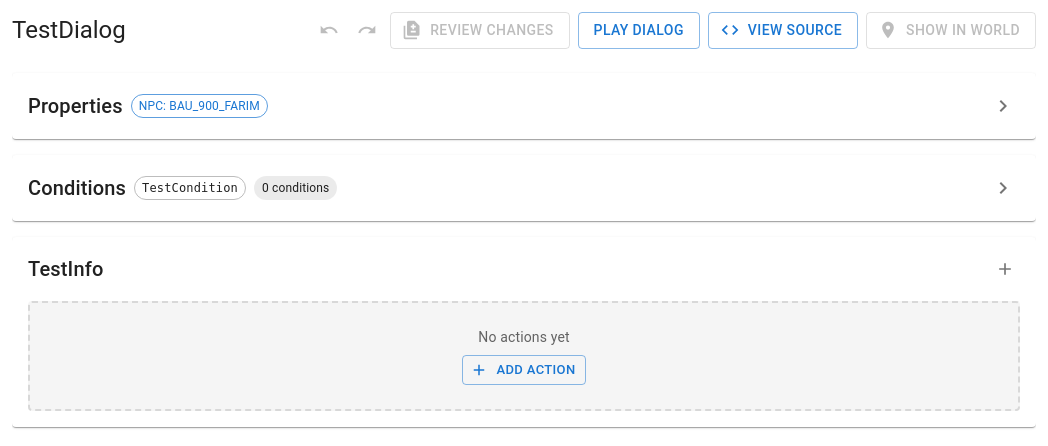
Scenario: the NPC/Dialog view jumps to the world › stays disabled when the point is missing from the very world it names
The width and height of the screenshot is (1048, 446).
Hover over the element showing "Show in World" at (951, 30), box [866,12,1036,48]
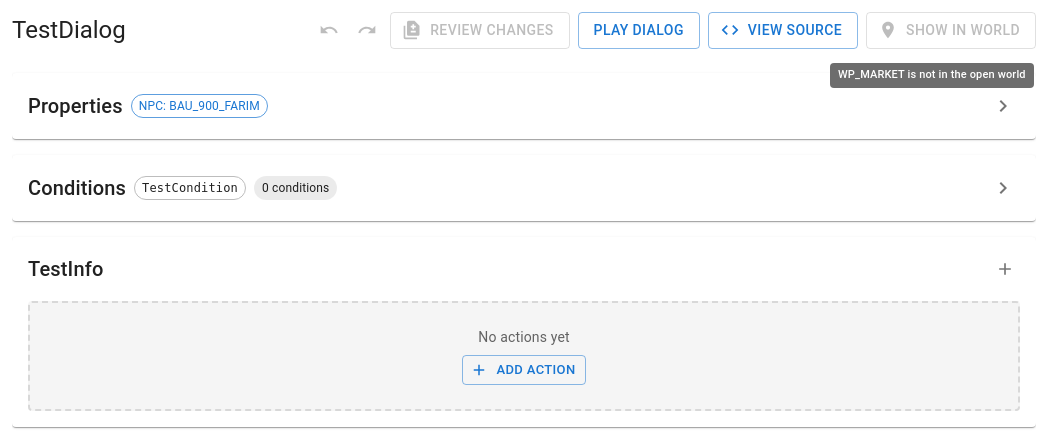
Check: the text "WP_MARKET is not in the open world" is shown, box [830,63,1034,88]
